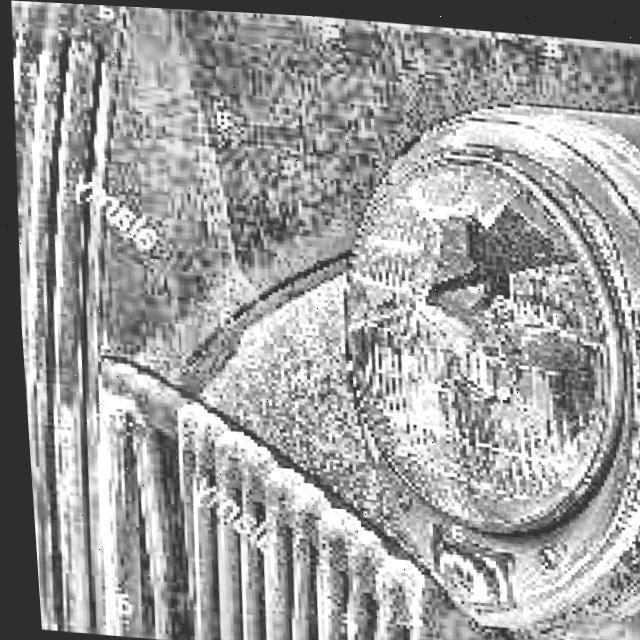head_lamp: (326, 143, 640, 530)
